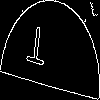T: (25, 24, 48, 76)
